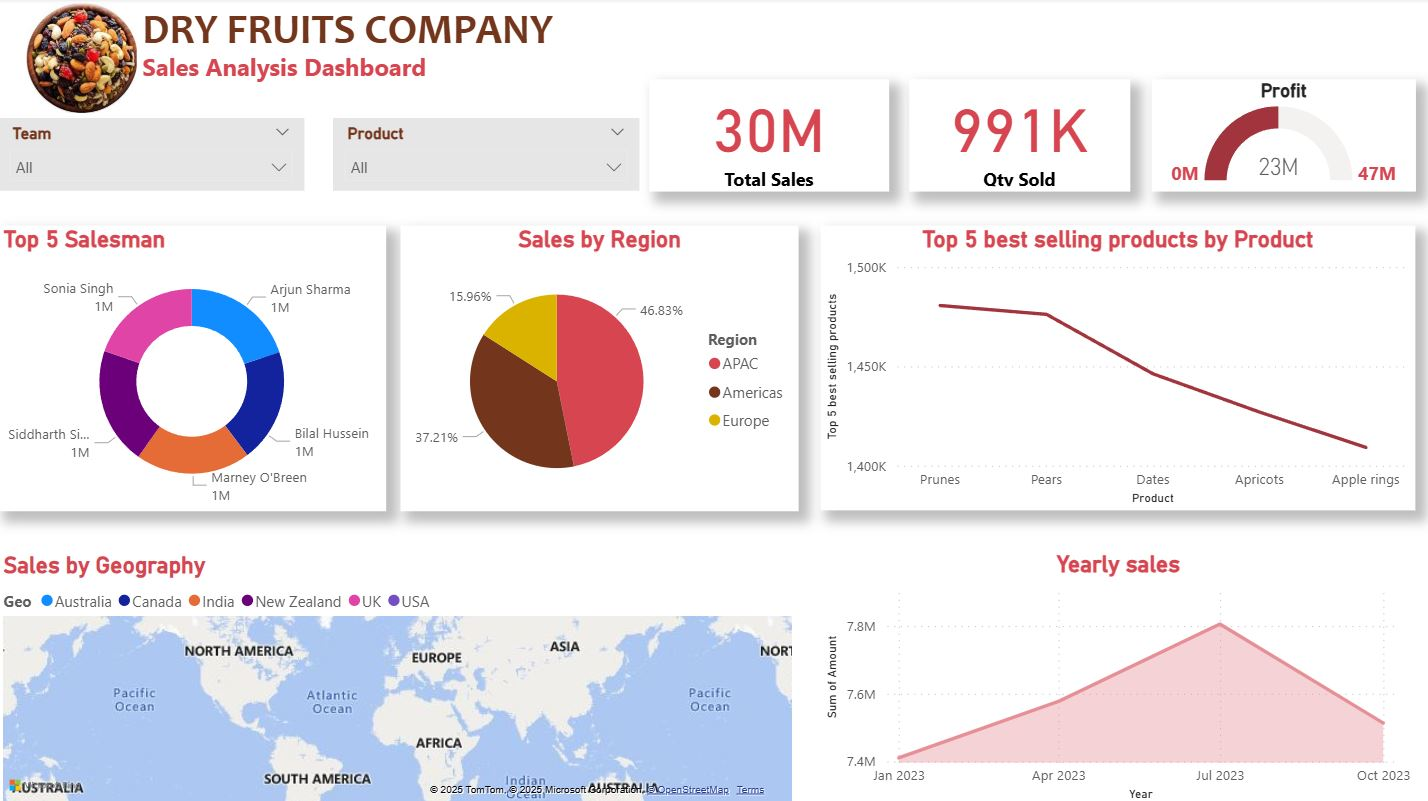

What the dashboard file says about the page in this screenshot:
{"tool":"powerbi","page":{"name":"Page 1","canvas":[1280,720],"ordinal":0},"visuals":[{"type":"textbox","box":[123,0,1156.6,61.5],"z":0},{"type":"image","box":[13.3,0,123,107.3],"z":1000},{"type":"textbox","box":[123,41,1156.6,41],"z":2000},{"type":"slicer","fields":{"Values":["EmployeeData.Team"]},"box":[0,107.3,272.6,65.1],"z":3000},{"type":"slicer","fields":{"Values":["sales.Product"]},"box":[297.9,107.3,272.6,65.1],"z":4000},{"type":"card","fields":{"Values":["sales.Amount"]},"box":[580.1,72.4,213.5,100.1],"z":5000},{"type":"card","fields":{"Values":["sales.Boxes"]},"box":[811.7,72.4,196.6,100.1],"z":6000},{"type":"gauge","fields":{"Y":["sales.Profit"]},"box":[1027.5,72.4,235.2,100.1],"z":7000},{"type":"tableEx","title":"Top 5 Salesman","fields":{"Values":["EmployeeData.Picture","EmployeeData.Sales person","sales.Amount"]},"box":[0,202.6,313.6,254.5],"z":8000},{"type":"pieChart","title":"Sales by Region","fields":{"Category":["Locations.Region"],"Y":["sales.Amount"]},"box":[332.9,201.4,354.6,254.5],"z":8001},{"type":"lineChart","fields":{"Category":["sales.Product"],"Y":["sales.Amount"]},"box":[732.8,203.1,529.7,253.9],"z":8002},{"type":"areaChart","title":"Sales by Geography","fields":{"Category":["sales.Geography"],"Y":["sales.Amount"]},"box":[0,476.4,448.6,227.9],"z":8003},{"type":"areaChart","title":"Yearly sales","fields":{"Category":["sales.Date.Variation.Date Hierarchy.Year","sales.Date.Variation.Date Hierarchy.Quarter","sales.Date.Variation.Date Hierarchy.Month","sales.Date.Variation.Date Hierarchy.Day"],"Y":["sales.Amount"]},"box":[467.9,476.4,794.8,227.9],"z":8004}]}

Visuals, with their boxes in screenshot pixels (x1, y1, x2, y2), scaled from the page's 1280x720 canvas onto the 1428x801 screenshot:
textbox: left=137, top=0, right=1427, bottom=68
image: left=15, top=0, right=152, bottom=119
textbox: left=137, top=46, right=1427, bottom=91
slicer - EmployeeData.Team: left=0, top=119, right=304, bottom=192
slicer - sales.Product: left=332, top=119, right=636, bottom=192
card - sales.Amount: left=647, top=81, right=885, bottom=192
card - sales.Boxes: left=906, top=81, right=1125, bottom=192
gauge - sales.Profit: left=1146, top=81, right=1409, bottom=192
"Top 5 Salesman" tableEx: left=0, top=225, right=350, bottom=509
"Sales by Region" pieChart: left=371, top=224, right=767, bottom=507
lineChart - sales.Product x sales.Amount: left=818, top=226, right=1408, bottom=508
"Sales by Geography" areaChart: left=0, top=530, right=500, bottom=784
"Yearly sales" areaChart: left=522, top=530, right=1409, bottom=784
